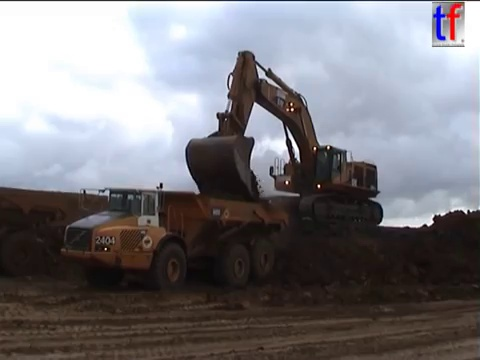excavator: (182, 48, 387, 228)
truck: (58, 179, 292, 293), (1, 185, 151, 280)
